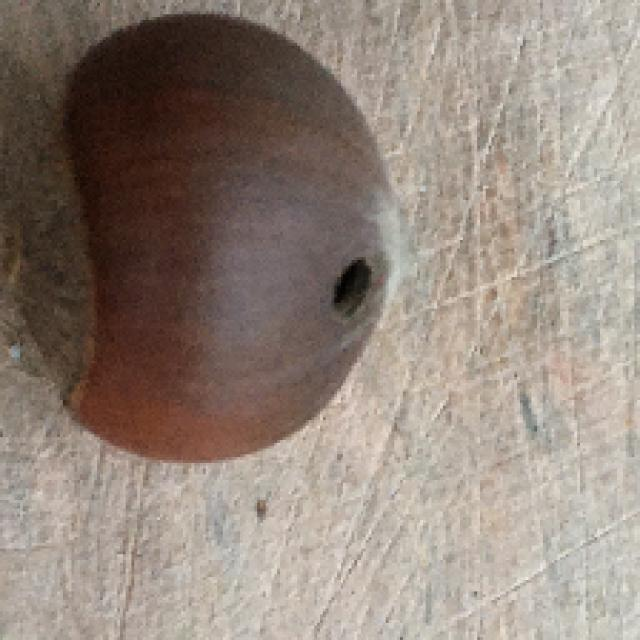damagedHazelnut: (2, 0, 418, 468)
